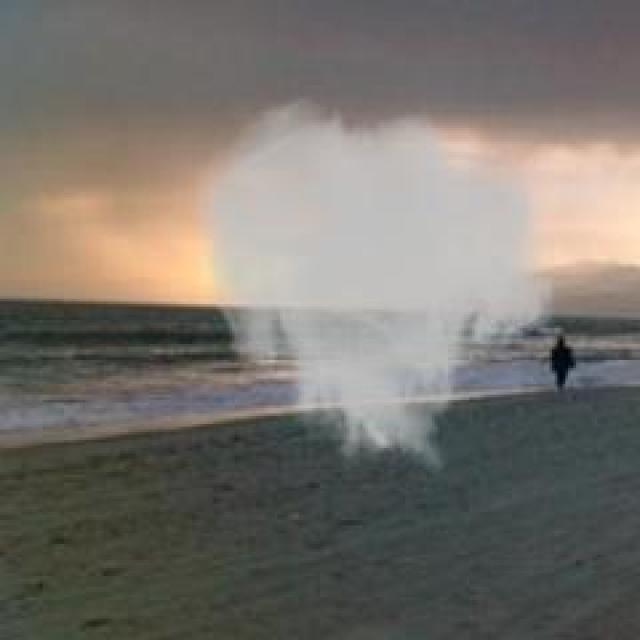Smoke: (232, 133, 518, 410)
